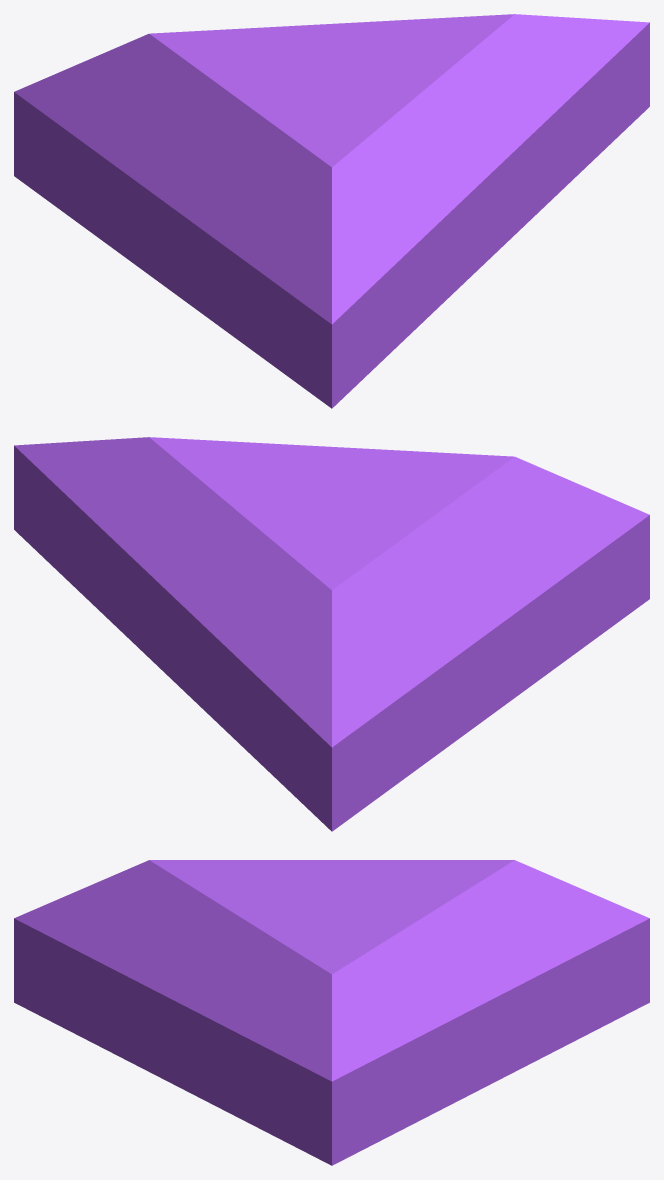
Rendered from trianglegem.fbx.
The picture shows the model from 3 angles, top to bottom: view 1: azimuth 30°, elevation 25°; view 2: azimuth 150°, elevation 25°; view 3: azimuth 270°, elevation 25°; orthographic projection.
Parts seen in each view (by area): view 1: Gem.012; view 2: Gem.012; view 3: Gem.012.
Boxes of the visible parts, x1,y1,x2,y2 form: Gem.012: (14, 14, 649, 408); Gem.012: (14, 437, 649, 831); Gem.012: (14, 860, 649, 1165).
Bounding box in the file's own units: 142 × 55.56 × 164.
